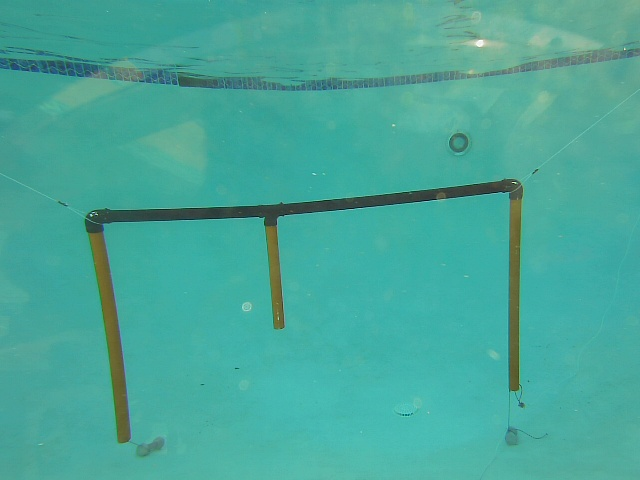Gate: (82, 225, 134, 445), (503, 192, 524, 394), (261, 218, 288, 331)
